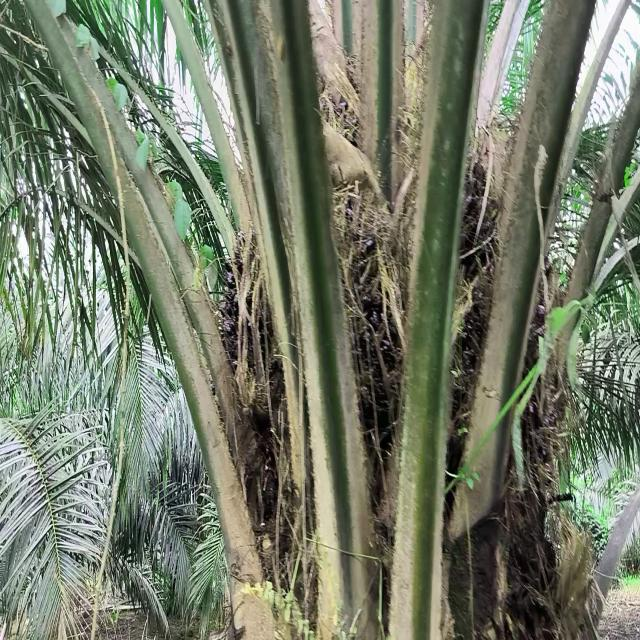palm-oil: (205, 227, 294, 433), (338, 217, 402, 433), (458, 122, 506, 285)
